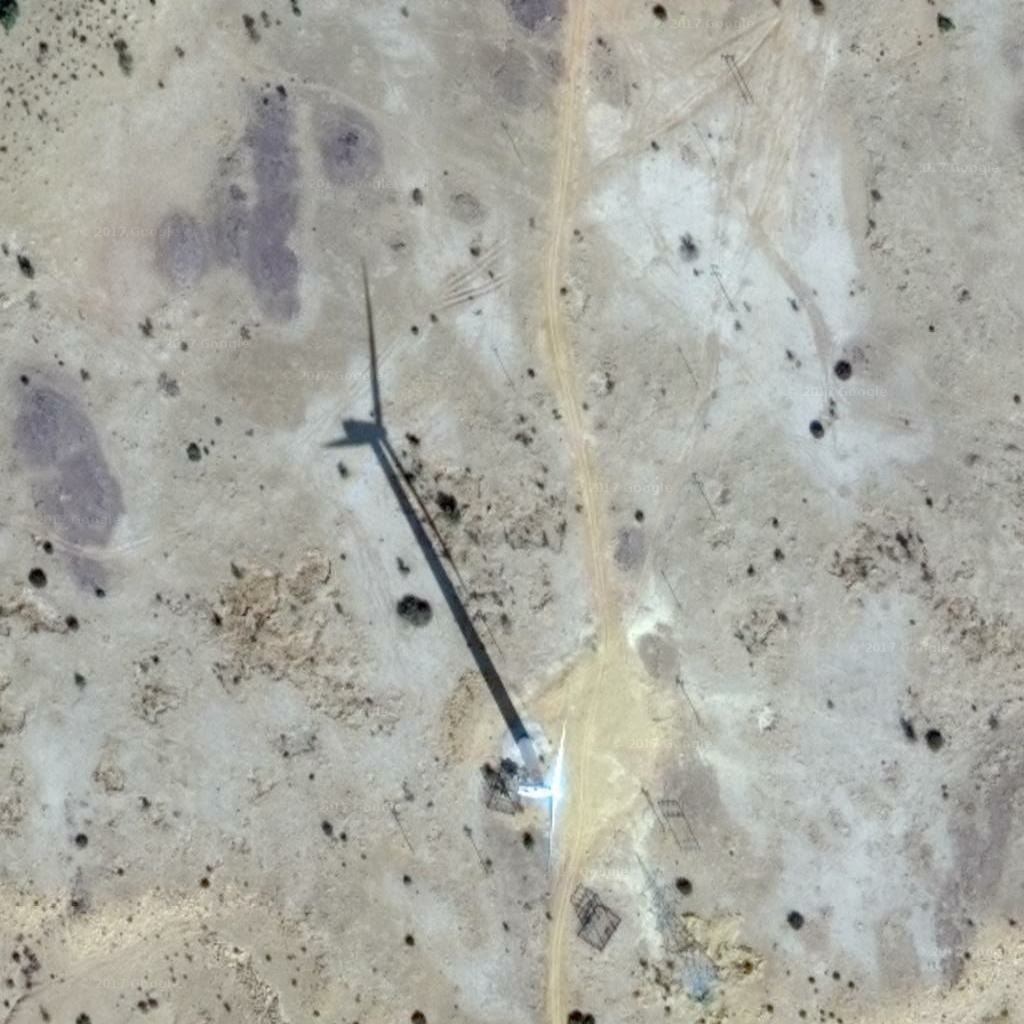Windmill: (276, 276, 538, 672)
